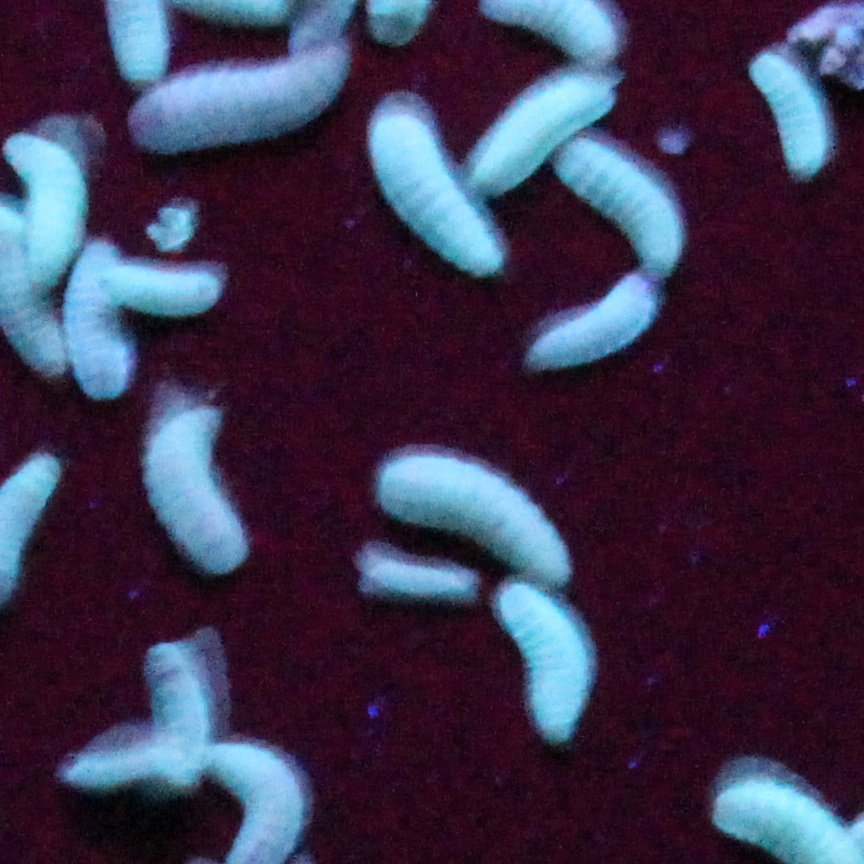larve: (379, 457, 569, 586), (134, 44, 346, 151), (369, 116, 502, 275), (146, 407, 246, 574), (557, 138, 681, 272), (471, 80, 613, 189), (499, 587, 588, 735), (3, 132, 86, 283), (532, 275, 655, 360), (65, 244, 129, 397), (750, 54, 827, 176), (148, 643, 207, 789), (102, 268, 218, 315), (369, 563, 471, 595), (65, 750, 146, 787)
